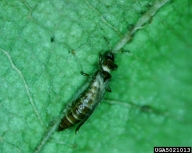Thrips: (59, 46, 123, 131)
